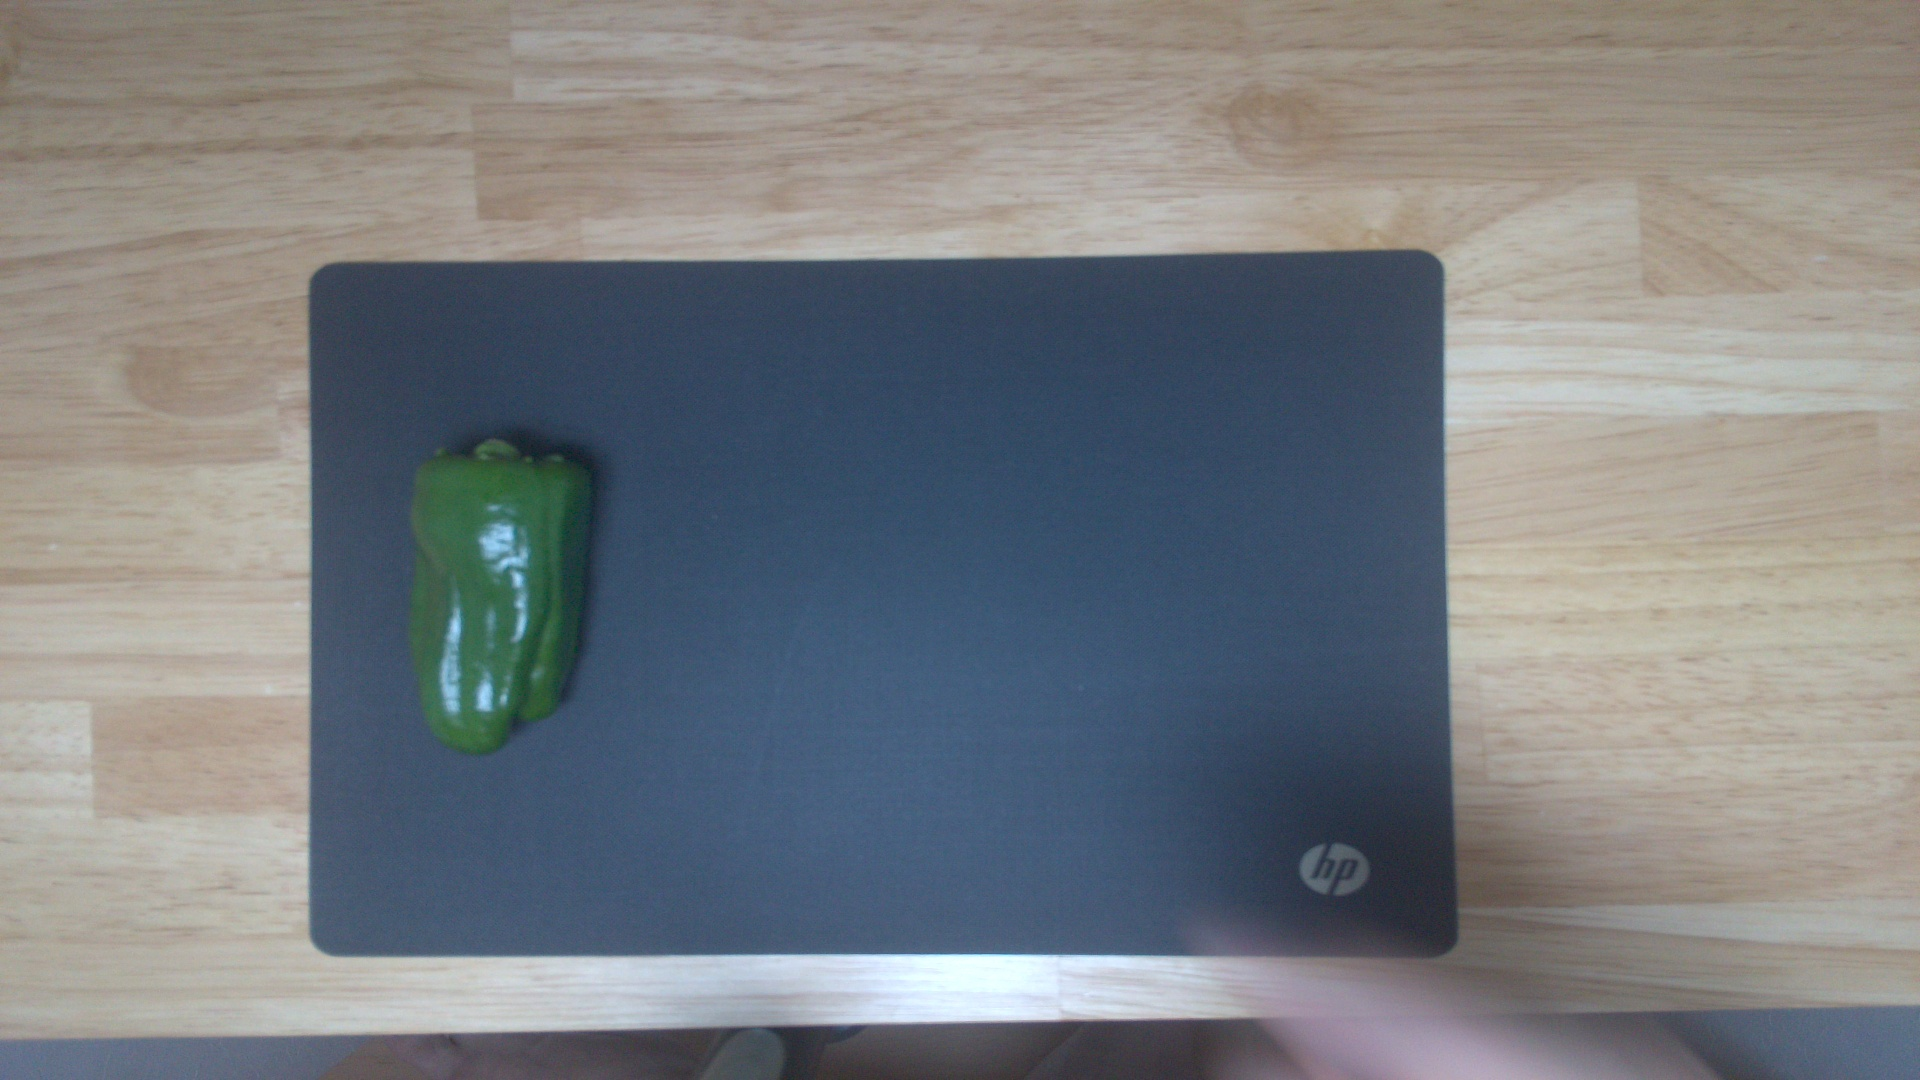Piman: (400, 436, 593, 757)
